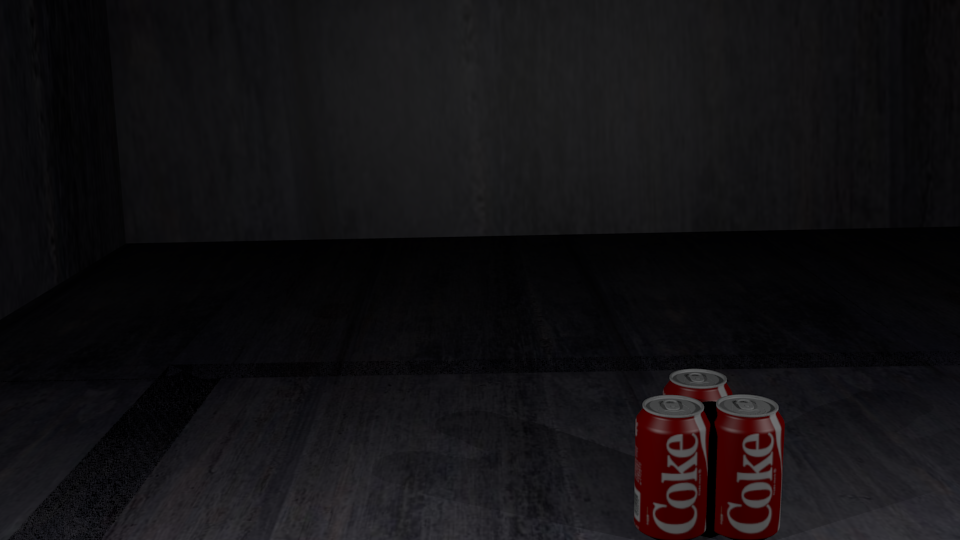cola_can: (708, 395, 784, 534), (635, 395, 709, 536), (664, 369, 731, 501)
